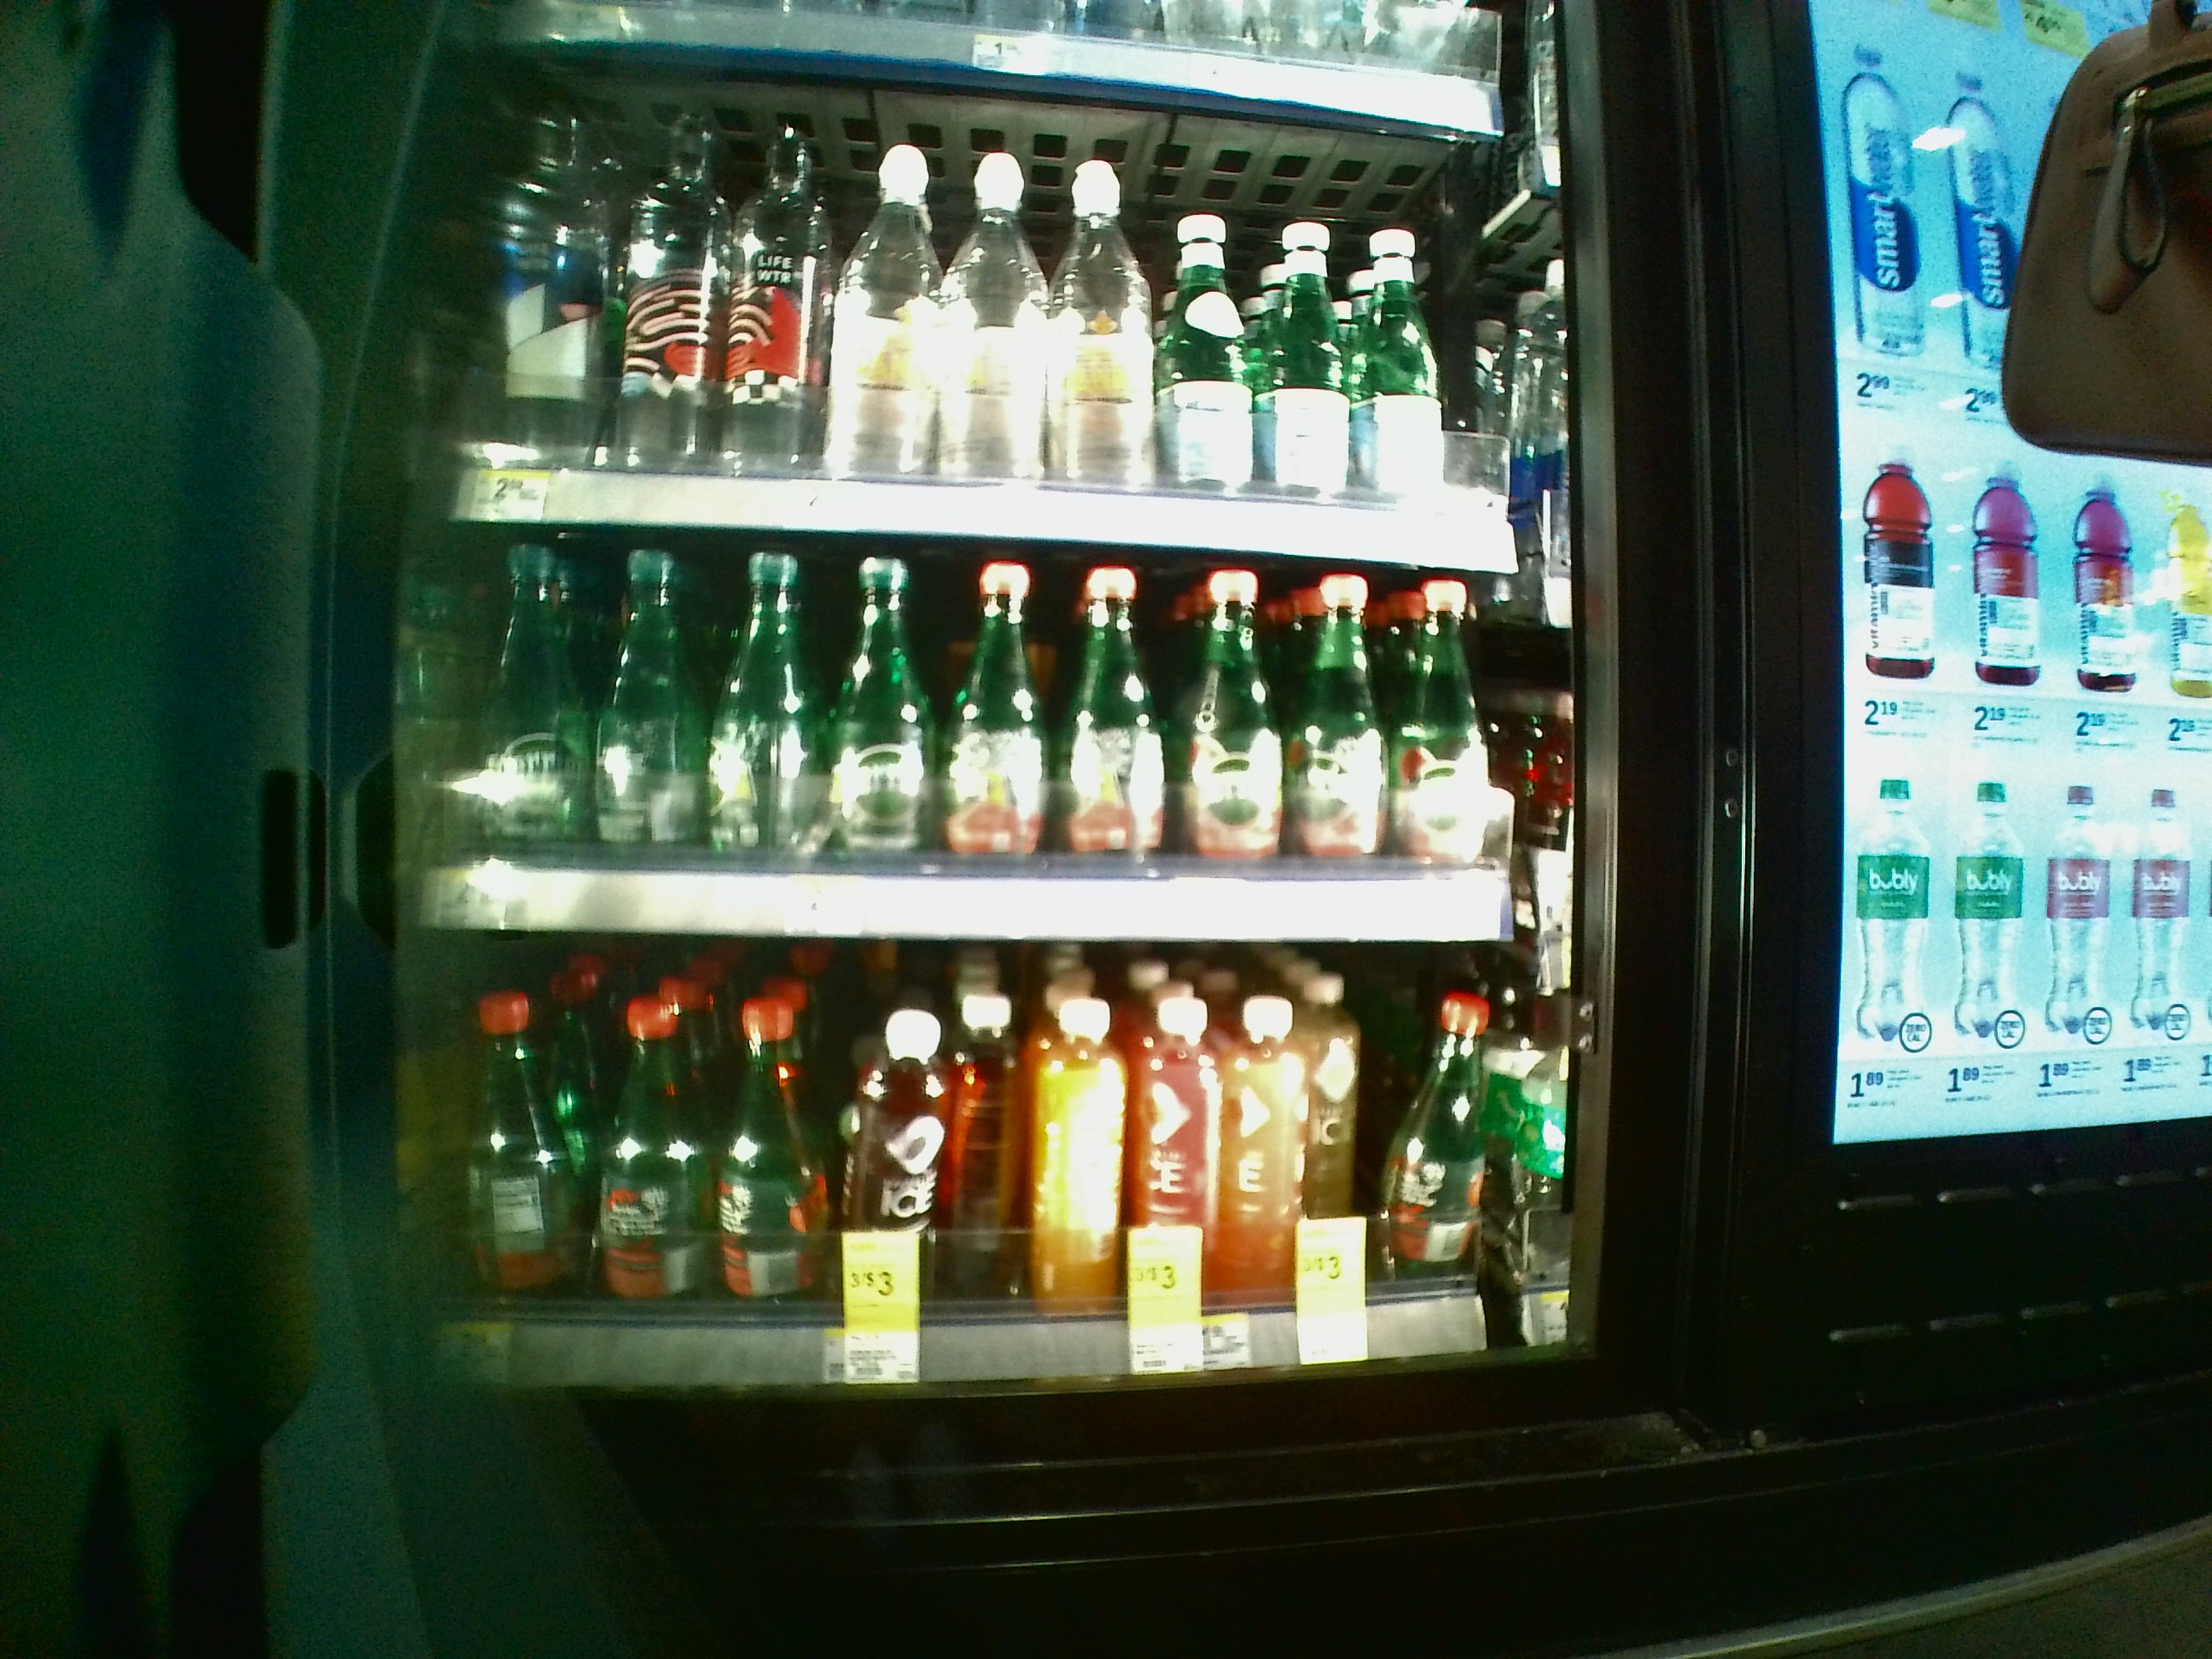Shelf: (420, 63, 1576, 528), (427, 938, 1578, 1364), (427, 523, 1566, 945)
